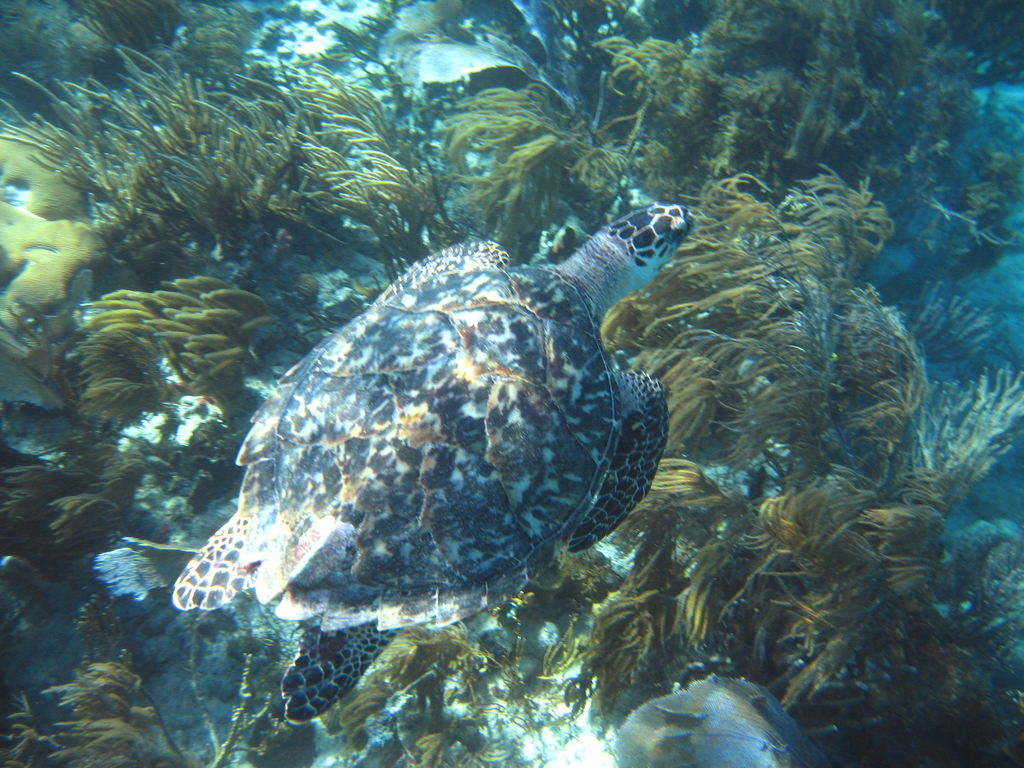Sea turtles: (172, 200, 696, 727)
